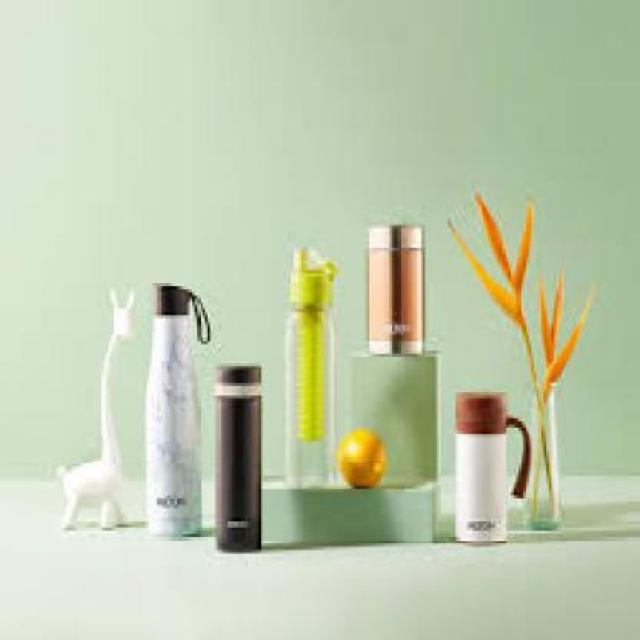Drinking: (142, 277, 208, 560), (278, 238, 342, 482), (445, 379, 529, 556), (357, 210, 435, 366), (218, 363, 273, 575)
